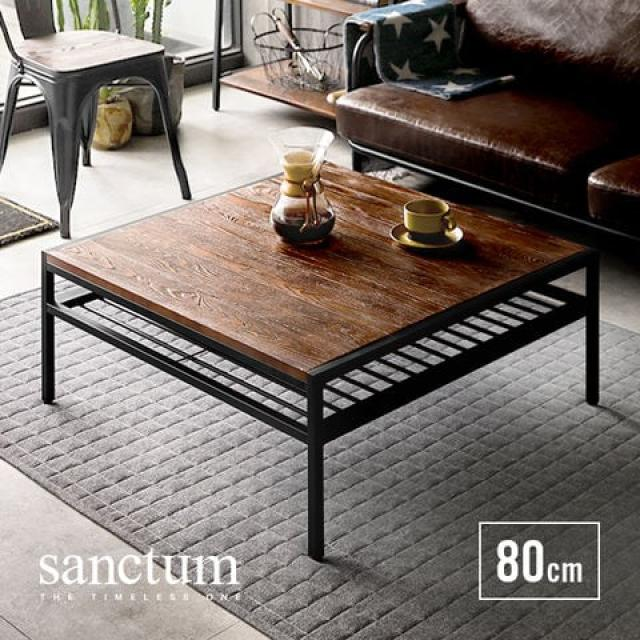vintage chair: (10, 7, 186, 233)
vintage desk: (33, 148, 604, 564)
vintage sofa: (339, 2, 640, 247)
